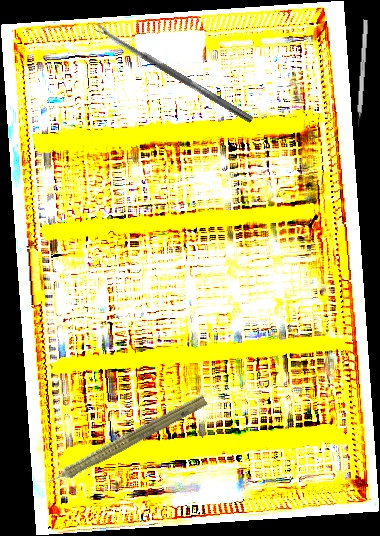Handpiece: (31, 387, 210, 497)
Hook Surgical: (355, 19, 369, 134)
Surgical Spoon: (93, 22, 255, 124)
